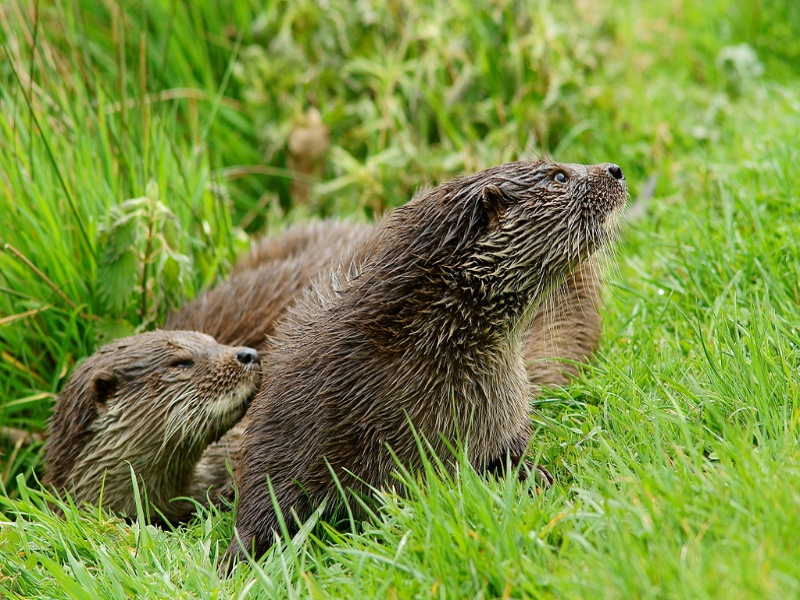minkish: (232, 150, 631, 582), (35, 200, 366, 540)
